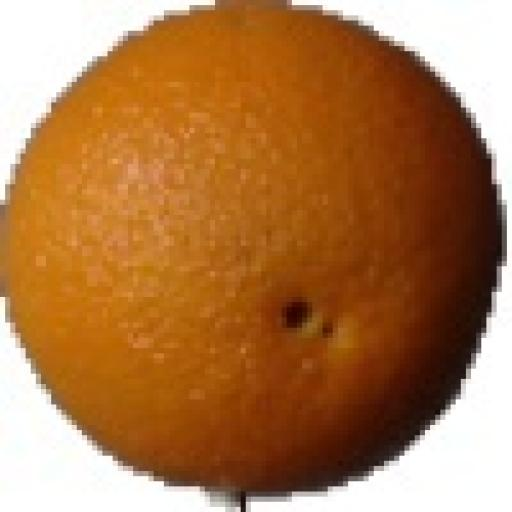orange: (6, 11, 501, 491)
